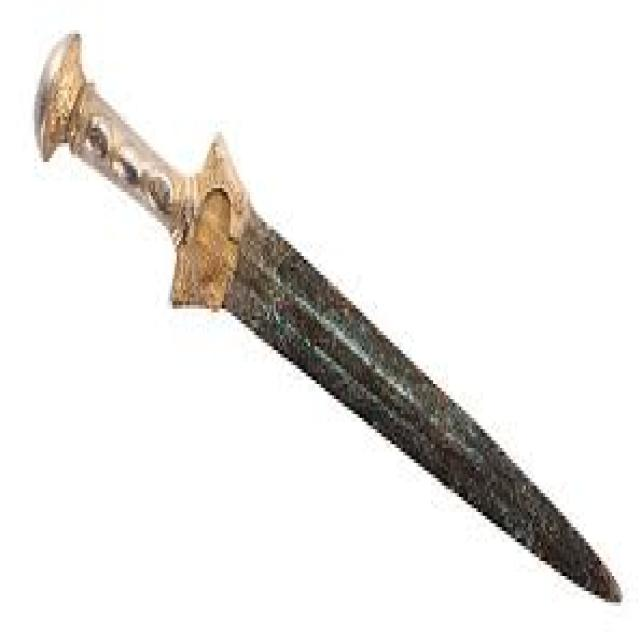Gun: (19, 0, 624, 607)
